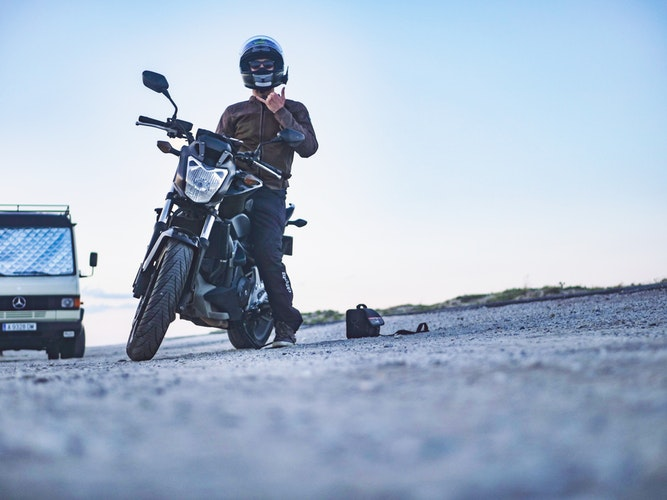helmet: (237, 34, 301, 92)
